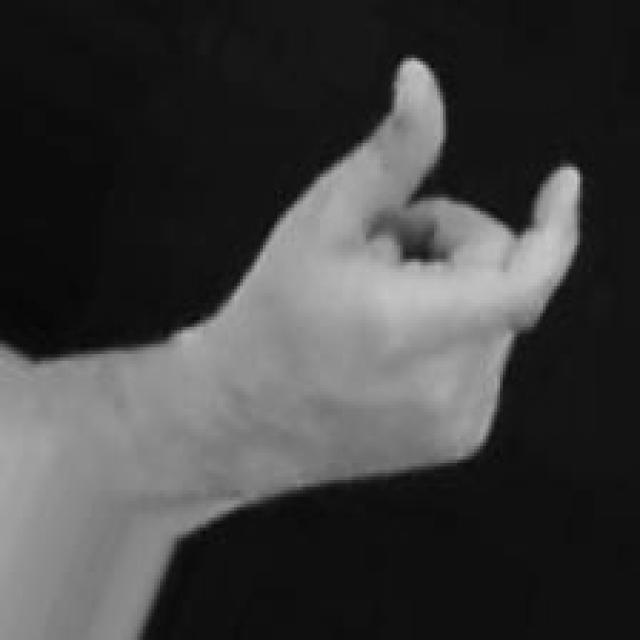U: (218, 55, 586, 471)
